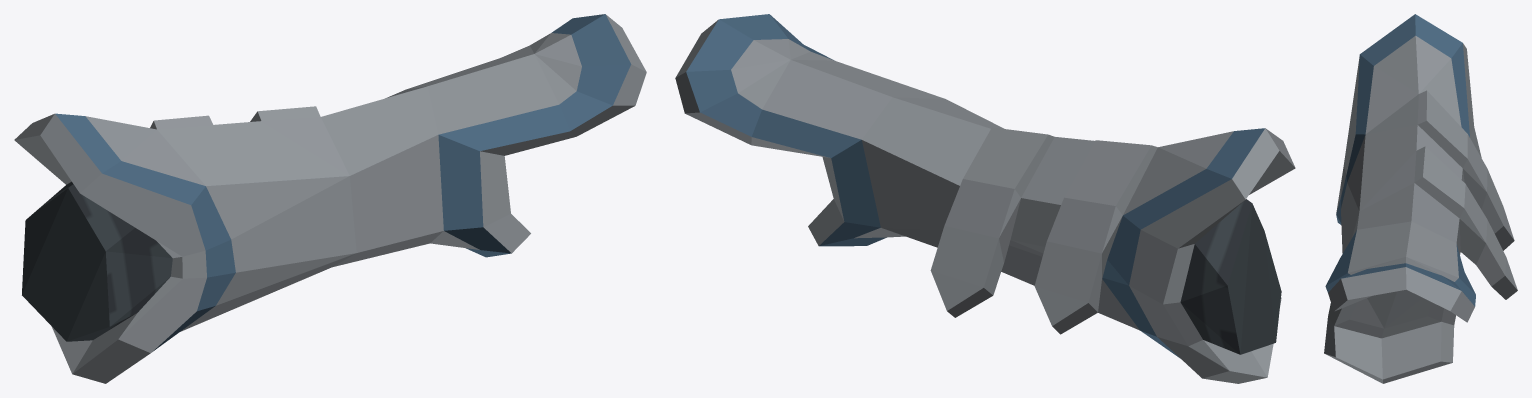
Rendered from Chr_ArmLowerLeft_Female_06_Static.fbx.
3 views of the same model, side by side, from view 1: azimuth 30°, elevation 25°; view 2: azimuth 150°, elevation 25°; view 3: azimuth 270°, elevation 25° (orthographic). The views are drawn at different scales.
Visible parts, largest first — view 1: Chr_ArmLowerLeft_Female_06_Static; view 2: Chr_ArmLowerLeft_Female_06_Static; view 3: Chr_ArmLowerLeft_Female_06_Static.
Part boxes in pixels (x1,y1,x2,y2): Chr_ArmLowerLeft_Female_06_Static: [14, 14, 646, 383]; Chr_ArmLowerLeft_Female_06_Static: [675, 14, 1295, 383]; Chr_ArmLowerLeft_Female_06_Static: [1324, 14, 1517, 383].
Size of the model in its own units: 0.3929 by 0.1765 by 0.1337.
